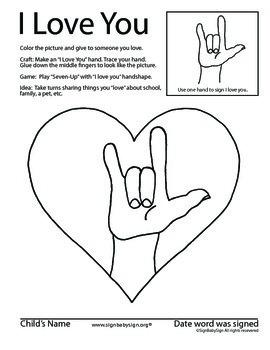Love_you: (94, 126, 214, 279)
